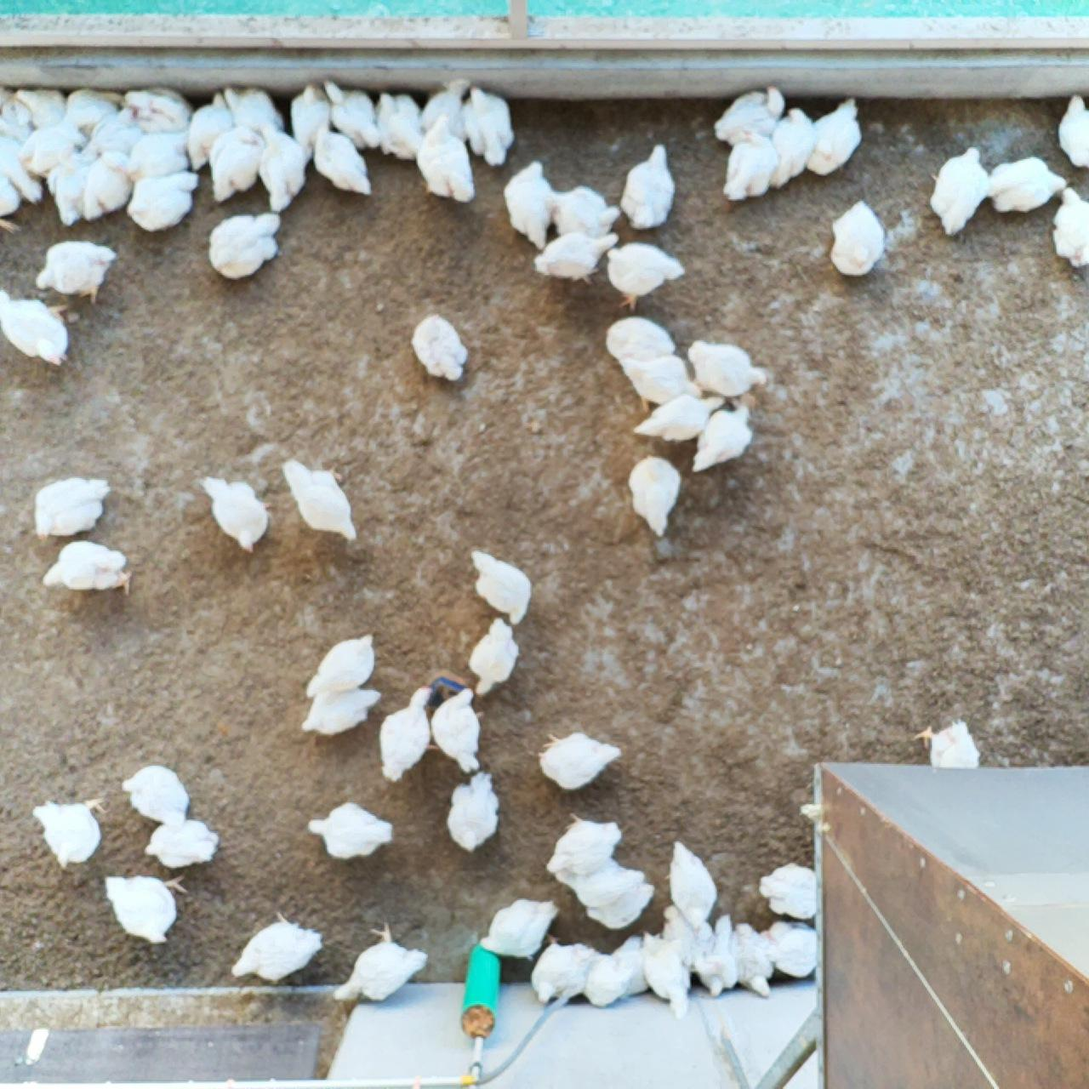chicken: (332, 924, 429, 1005), (99, 869, 190, 945), (230, 911, 325, 983), (281, 460, 361, 543), (195, 473, 271, 554), (30, 471, 116, 541), (536, 729, 626, 795), (617, 353, 708, 418), (605, 241, 685, 314), (466, 547, 537, 629), (796, 91, 864, 176), (206, 209, 283, 284), (29, 793, 107, 867), (0, 284, 71, 365), (413, 114, 478, 202), (252, 121, 313, 212), (36, 236, 120, 301), (527, 227, 622, 284), (633, 392, 731, 447), (980, 156, 1070, 215), (620, 143, 680, 231), (42, 539, 133, 597), (686, 339, 772, 400), (304, 631, 380, 700), (926, 147, 986, 234), (458, 85, 520, 169), (308, 798, 394, 858), (710, 80, 787, 147), (378, 686, 430, 783), (690, 402, 760, 474), (443, 768, 503, 852), (627, 452, 685, 538), (637, 929, 695, 1014), (480, 897, 560, 957), (825, 200, 888, 276), (544, 817, 622, 877), (503, 154, 554, 244), (764, 102, 812, 197), (129, 168, 199, 233), (298, 685, 383, 738), (724, 126, 781, 205), (206, 126, 262, 206), (530, 937, 595, 1005), (432, 683, 481, 773), (142, 812, 221, 867), (313, 125, 373, 197), (667, 840, 717, 926), (322, 80, 380, 154), (412, 317, 472, 387), (549, 184, 621, 242), (367, 93, 424, 165), (469, 617, 520, 697), (693, 908, 740, 994), (122, 765, 186, 827), (554, 857, 644, 901), (416, 76, 473, 143), (79, 151, 130, 225), (47, 149, 94, 228), (759, 861, 820, 921), (124, 127, 190, 182), (763, 918, 822, 979), (18, 123, 88, 174), (218, 85, 281, 141), (188, 91, 232, 171), (659, 907, 712, 973), (584, 880, 658, 927), (730, 921, 775, 997), (1051, 179, 1089, 268), (292, 84, 334, 164), (916, 720, 983, 769), (604, 931, 651, 997), (84, 104, 144, 155), (606, 315, 671, 361), (1052, 93, 1089, 171), (122, 89, 188, 132), (64, 84, 123, 130), (0, 132, 36, 200), (582, 955, 626, 1010), (0, 86, 34, 142), (16, 88, 67, 124), (0, 168, 27, 232)
